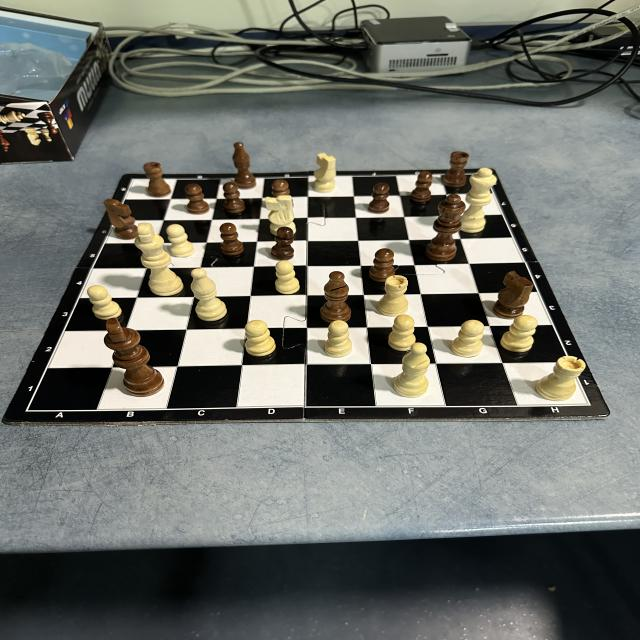Black-Bishop: (319, 271, 352, 324), (232, 141, 256, 190)
Black-King: (103, 317, 165, 398)
Black-Knight: (492, 270, 534, 320), (103, 198, 138, 240)
Black-Pawn: (368, 248, 396, 283), (219, 222, 244, 256), (184, 183, 210, 215), (270, 227, 294, 260), (223, 182, 246, 214), (410, 171, 433, 202), (368, 183, 390, 214), (270, 179, 292, 198)
Black-Queen: (425, 194, 466, 262)
Black-Rook: (440, 151, 470, 188), (142, 161, 172, 198)
White-Bishop: (393, 342, 431, 398), (190, 268, 228, 323)
White-King: (135, 222, 184, 296)
White-Knight: (264, 196, 296, 237), (311, 153, 338, 193)
White-Pawn: (500, 315, 538, 353), (450, 320, 486, 358), (87, 285, 123, 321), (244, 320, 276, 357), (388, 314, 417, 352), (324, 320, 352, 358), (166, 224, 195, 258), (274, 260, 300, 295)
White-Queen: (460, 168, 498, 234)
White-Rook: (535, 355, 586, 402), (378, 274, 410, 316)
